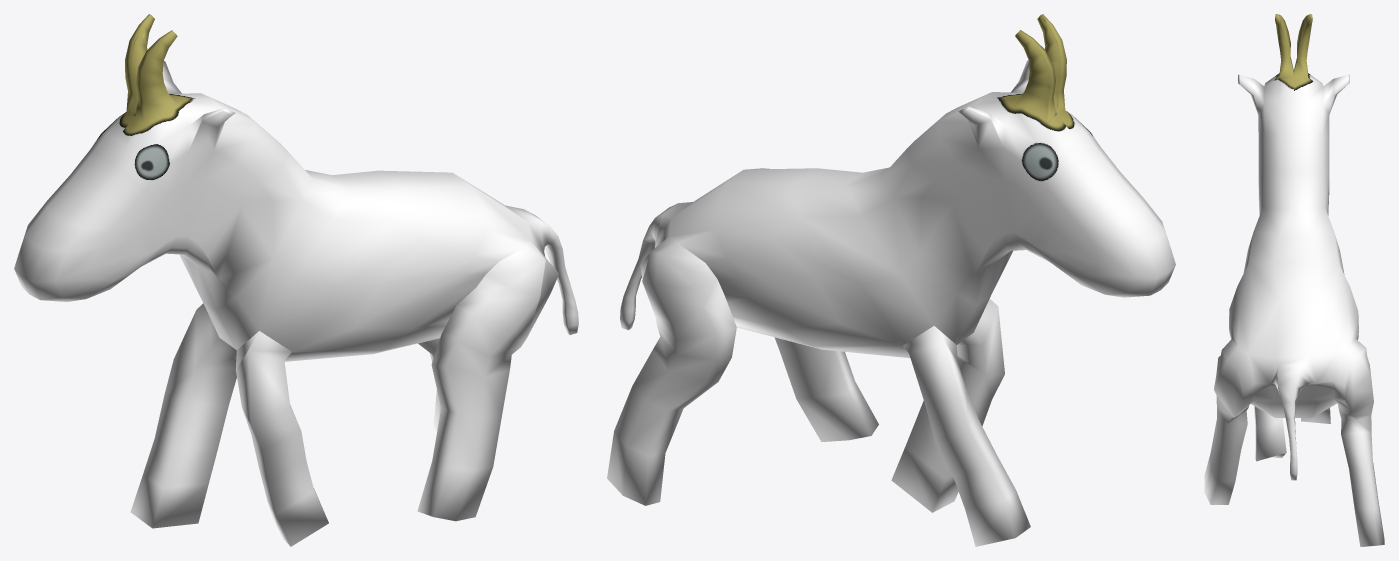
The model's file is goatAnim_000007.obj.
The picture shows the model from 3 angles, left to right: view 1: azimuth 30°, elevation 25°; view 2: azimuth 150°, elevation 25°; view 3: azimuth 270°, elevation 25°; orthographic projection. The views are drawn at different scales.
Visible parts, largest first — view 1: Cube; view 2: Cube; view 3: Cube.
Boxes of the visible parts, x1=… form: Cube: x1=14, y1=14, x2=578, y2=546; Cube: x1=607, y1=14, x2=1175, y2=546; Cube: x1=1204, y1=14, x2=1384, y2=546.
Size of the model in its own units: 1.31 by 1.2 by 0.4842.
